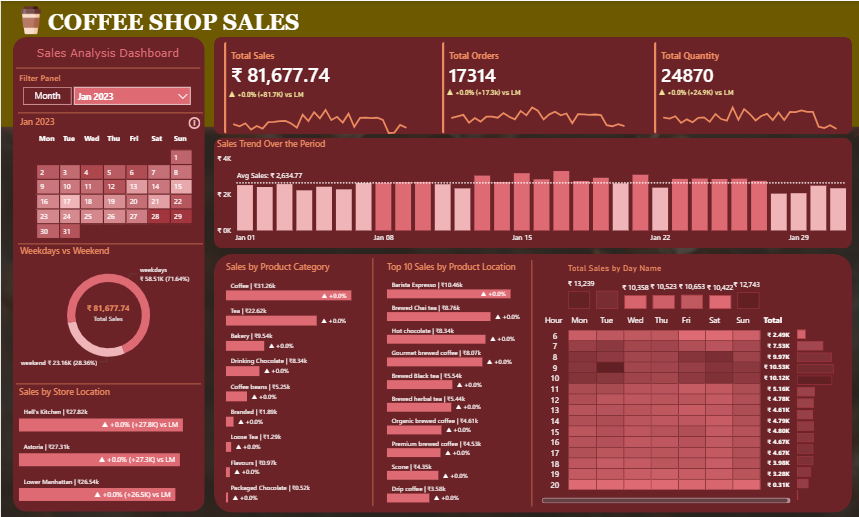

This screenshot's page, from the dashboard's own definition file:
{"tool":"powerbi","page":{"name":"Page 1","canvas":[1450,875],"ordinal":0},"visuals":[{"type":"shape","box":[0,0,1450,212.6],"z":0},{"type":"shape","box":[20.5,61.6,324,802],"z":1000},{"type":"shape","box":[359.2,61.6,1077.6,164.2],"z":2000},{"type":"textbox","box":[74.7,10.5,464.4,68.7],"z":3000},{"type":"slicer","fields":{"Values":["Date Table.Month Year"]},"box":[118.8,140.8,206.7,41.1],"z":4000},{"type":"group","id":"g1","title":"Group 1","box":[356.3,64.5,343.1,164.2],"z":5000},{"type":"cardVisual","fields":{"Data":["Coffee Sales Data.Total Quantity"]},"box":[1082,64.5,290.6,165.2],"z":5000,"group":"g3"},{"type":"group","id":"g2","title":"Group 2","box":[724.3,64.5,343.1,164.2],"z":6000},{"type":"cardVisual","fields":{"Data":["Coffee Sales Data.Total Orders"]},"box":[724.3,64.5,290.6,165.2],"z":6000,"group":"g2"},{"type":"cardVisual","fields":{"Data":["Coffee Sales Data.Total Sales"]},"box":[356.3,64.5,290.6,165.2],"z":7000,"group":"g1"},{"type":"group","id":"g3","title":"Group 3","box":[1082,64.5,343.1,164.2],"z":7000},{"type":"lineChart","fields":{"Category":["Date Table.Date.Variation.Date Hierarchy.Year","Date Table.Date.Variation.Date Hierarchy.Quarter","Date Table.Date.Variation.Date Hierarchy.Month","Date Table.Date.Variation.Date Hierarchy.Day"],"Y":["Coffee Sales Data.Total Quantity"]},"box":[1104.8,147.1,320.5,79.8],"z":8000,"group":"g3"},{"type":"pivotTable","fields":{"Rows":["Date Table.Week No"],"Columns":["Date Table.Day Name"],"Values":["Min(Date Table.Day No)"]},"box":[26.4,195,312.3,222.9],"z":8000},{"type":"shape","box":[28.5,396,311.9,29.9],"z":9000},{"type":"lineChart","fields":{"Category":["Date Table.Date.Variation.Date Hierarchy.Year","Date Table.Date.Variation.Date Hierarchy.Quarter","Date Table.Date.Variation.Date Hierarchy.Month","Date Table.Date.Variation.Date Hierarchy.Day"],"Y":["Coffee Sales Data.Total Orders"]},"box":[747.1,147.1,320.5,79.8],"z":10000,"group":"g2"},{"type":"shape","box":[28.5,174.8,311.9,29.9],"z":10000},{"type":"lineChart","fields":{"Category":["Date Table.Date.Variation.Date Hierarchy.Year","Date Table.Date.Variation.Date Hierarchy.Quarter","Date Table.Date.Variation.Date Hierarchy.Month","Date Table.Date.Variation.Date Hierarchy.Day"],"Y":["Coffee Sales Data.Total Sales"]},"box":[379.1,150,320.5,79.8],"z":11000,"group":"g1"},{"type":"donutChart","title":"Weekdays vs Weekend","fields":{"Y":["Coffee Sales Data.Total Sales"],"Category":["Date Table.Weekdays vs Weekend"]},"box":[27.9,413,309.4,217],"z":11000},{"type":"cardVisual","fields":{"Data":["Coffee Sales Data.Total Sales"]},"box":[117.3,492.6,129,67.4],"z":12000},{"type":"actionButton","box":[311.9,190.4,28.5,31.3],"z":13000},{"type":"shape","box":[25.6,631,311.9,29.9],"z":14000},{"type":"clusteredBarChart","title":"Sales by Store Location","fields":{"Category":["Coffee Sales Data.store_location"],"Y":["Coffee Sales Data.Placeholder","Coffee Sales Data.Total Sales"]},"box":[24.9,651,312.3,202.3],"z":15000},{"type":"shape","box":[359.2,231.7,1077.6,186.2],"z":16000},{"type":"columnChart","title":"Sales Trend Over the Period","fields":{"Category":["Coffee Sales Data.transaction_date"],"Y":["Coffee Sales Data.Total Sales"]},"box":[359.2,231.7,1077.6,186.2],"z":17000},{"type":"shape","box":[359.2,426.7,1077.6,436.9],"z":18000},{"type":"clusteredBarChart","title":"Sales by Product Category","fields":{"Y":["Coffee Sales Data.Placeholder","Coffee Sales Data.Total Sales"],"Category":["Coffee Sales Data.product_category"]},"box":[375.3,439.8,250.7,413.5],"z":19000},{"type":"shape","box":[592.3,434,70.4,419.3],"z":20000},{"type":"clusteredBarChart","title":"Top 10 Sales by Product Location","fields":{"Y":["Coffee Sales Data.Placeholder","Coffee Sales Data.Total Sales"],"Category":["Coffee Sales Data.product_type"]},"box":[646.6,439.8,250.7,413.5],"z":21000},{"type":"pivotTable","fields":{"Rows":["Coffee Sales Data.Hour"],"Columns":["Date Table.Day Name"],"Values":["Coffee Sales Data.Total Sales"]},"box":[909,524.9,429.6,328.4],"z":22000},{"type":"shape","box":[862.1,436.9,70.4,416.4],"z":23000},{"type":"barChart","fields":{"Category":["Coffee Sales Data.Hour"],"Y":["Coffee Sales Data.Total Sales"]},"box":[1339,543,98.2,305],"z":24000},{"type":"columnChart","fields":{"Y":["Coffee Sales Data.Total Sales"],"Category":["Date Table.Day Name"]},"box":[953.4,442.7,334.5,83.6],"z":25000},{"type":"textbox","box":[36.6,146,82.1,29.9],"z":26000},{"type":"image","box":[27.9,0,46.9,64.5],"z":27000},{"type":"textbox","box":[19.4,70.9,324,35.1],"z":28000},{"type":"textbox","box":[24,114.2,84.4,35.1],"z":29000},{"type":"shape","box":[26.1,98.5,311.3,30.6],"z":30000}]}

Visuals, with their boxes in screenshot pixels (x1, y1, x2, y2), scaled from the page's 1450x875 canvas onto the 859x517 screenshot:
shape: {"left": 0, "top": 0, "right": 858, "bottom": 126}
shape: {"left": 12, "top": 36, "right": 204, "bottom": 510}
shape: {"left": 213, "top": 36, "right": 851, "bottom": 133}
textbox: {"left": 44, "top": 6, "right": 319, "bottom": 47}
slicer - Date Table.Month Year: {"left": 70, "top": 83, "right": 193, "bottom": 107}
"Group 1" group: {"left": 211, "top": 38, "right": 414, "bottom": 135}
cardVisual - Coffee Sales Data.Total Quantity: {"left": 641, "top": 38, "right": 813, "bottom": 136}
"Group 2" group: {"left": 429, "top": 38, "right": 632, "bottom": 135}
cardVisual - Coffee Sales Data.Total Orders: {"left": 429, "top": 38, "right": 601, "bottom": 136}
cardVisual - Coffee Sales Data.Total Sales: {"left": 211, "top": 38, "right": 383, "bottom": 136}
"Group 3" group: {"left": 641, "top": 38, "right": 844, "bottom": 135}
lineChart - Date Table.Date.Variation.Date Hierarchy.Year x Date Table.Date.Variation.Date Hierarchy.Quarter: {"left": 654, "top": 87, "right": 844, "bottom": 134}
pivotTable - Date Table.Week No x Date Table.Day Name: {"left": 16, "top": 115, "right": 201, "bottom": 247}
shape: {"left": 17, "top": 234, "right": 202, "bottom": 252}
lineChart - Date Table.Date.Variation.Date Hierarchy.Year x Date Table.Date.Variation.Date Hierarchy.Quarter: {"left": 443, "top": 87, "right": 632, "bottom": 134}
shape: {"left": 17, "top": 103, "right": 202, "bottom": 121}
lineChart - Date Table.Date.Variation.Date Hierarchy.Year x Date Table.Date.Variation.Date Hierarchy.Quarter: {"left": 225, "top": 89, "right": 414, "bottom": 136}
"Weekdays vs Weekend" donutChart: {"left": 17, "top": 244, "right": 200, "bottom": 372}
cardVisual - Coffee Sales Data.Total Sales: {"left": 69, "top": 291, "right": 146, "bottom": 331}
actionButton: {"left": 185, "top": 112, "right": 202, "bottom": 131}
shape: {"left": 15, "top": 373, "right": 200, "bottom": 390}
"Sales by Store Location" clusteredBarChart: {"left": 15, "top": 385, "right": 200, "bottom": 504}
shape: {"left": 213, "top": 137, "right": 851, "bottom": 247}
"Sales Trend Over the Period" columnChart: {"left": 213, "top": 137, "right": 851, "bottom": 247}
shape: {"left": 213, "top": 252, "right": 851, "bottom": 510}
"Sales by Product Category" clusteredBarChart: {"left": 222, "top": 260, "right": 371, "bottom": 504}
shape: {"left": 351, "top": 256, "right": 393, "bottom": 504}
"Top 10 Sales by Product Location" clusteredBarChart: {"left": 383, "top": 260, "right": 532, "bottom": 504}
pivotTable - Coffee Sales Data.Hour x Date Table.Day Name: {"left": 539, "top": 310, "right": 793, "bottom": 504}
shape: {"left": 511, "top": 258, "right": 552, "bottom": 504}
barChart - Coffee Sales Data.Hour x Coffee Sales Data.Total Sales: {"left": 793, "top": 321, "right": 851, "bottom": 501}
columnChart - Coffee Sales Data.Total Sales x Date Table.Day Name: {"left": 565, "top": 262, "right": 763, "bottom": 311}
textbox: {"left": 22, "top": 86, "right": 70, "bottom": 104}
image: {"left": 17, "top": 0, "right": 44, "bottom": 38}
textbox: {"left": 11, "top": 42, "right": 203, "bottom": 63}
textbox: {"left": 14, "top": 67, "right": 64, "bottom": 88}
shape: {"left": 15, "top": 58, "right": 200, "bottom": 76}
